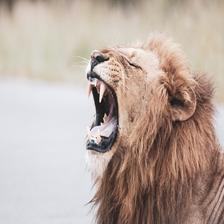Lion: (76, 39, 223, 224)
